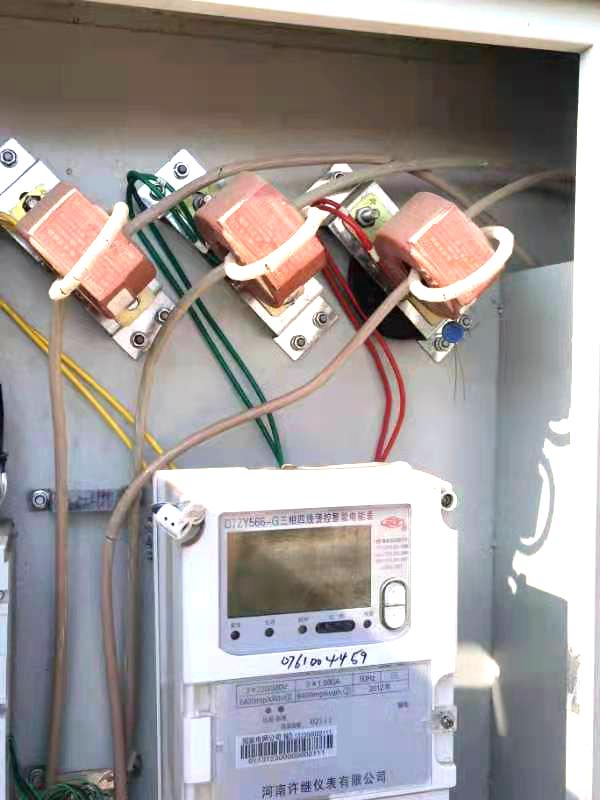digital: (182, 489, 455, 799)
